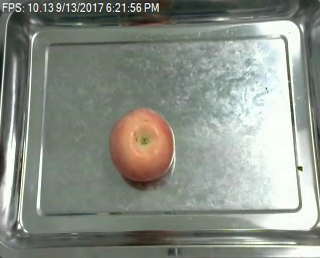Apple: (107, 105, 175, 186)
